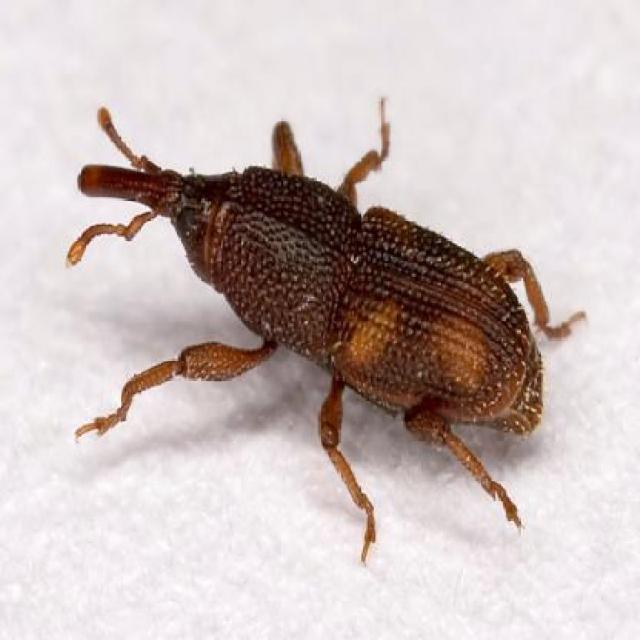rice-bug: (63, 102, 591, 566)
